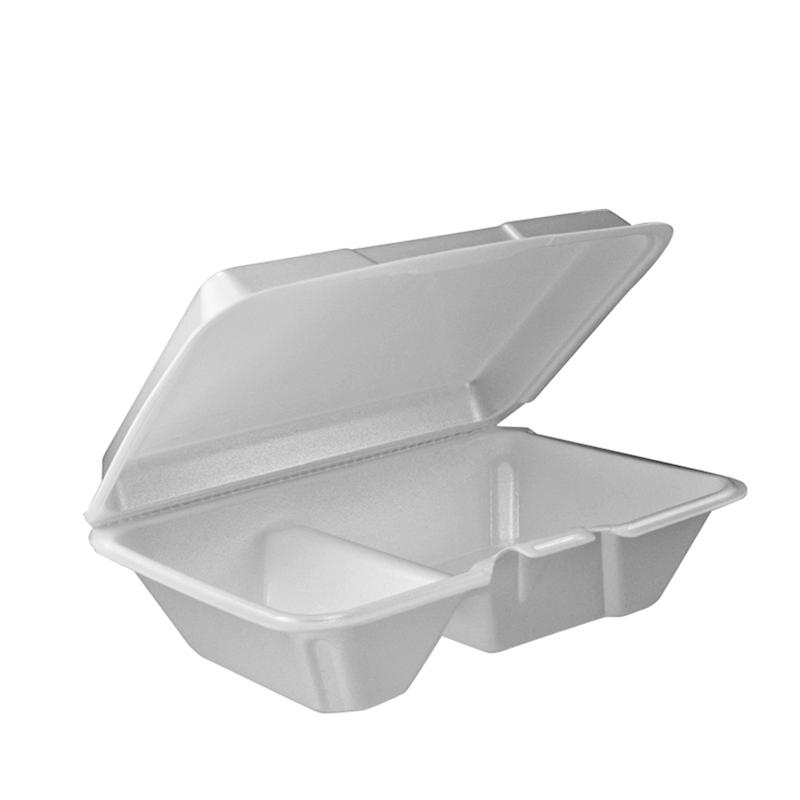styrofoam: (83, 204, 745, 718)
